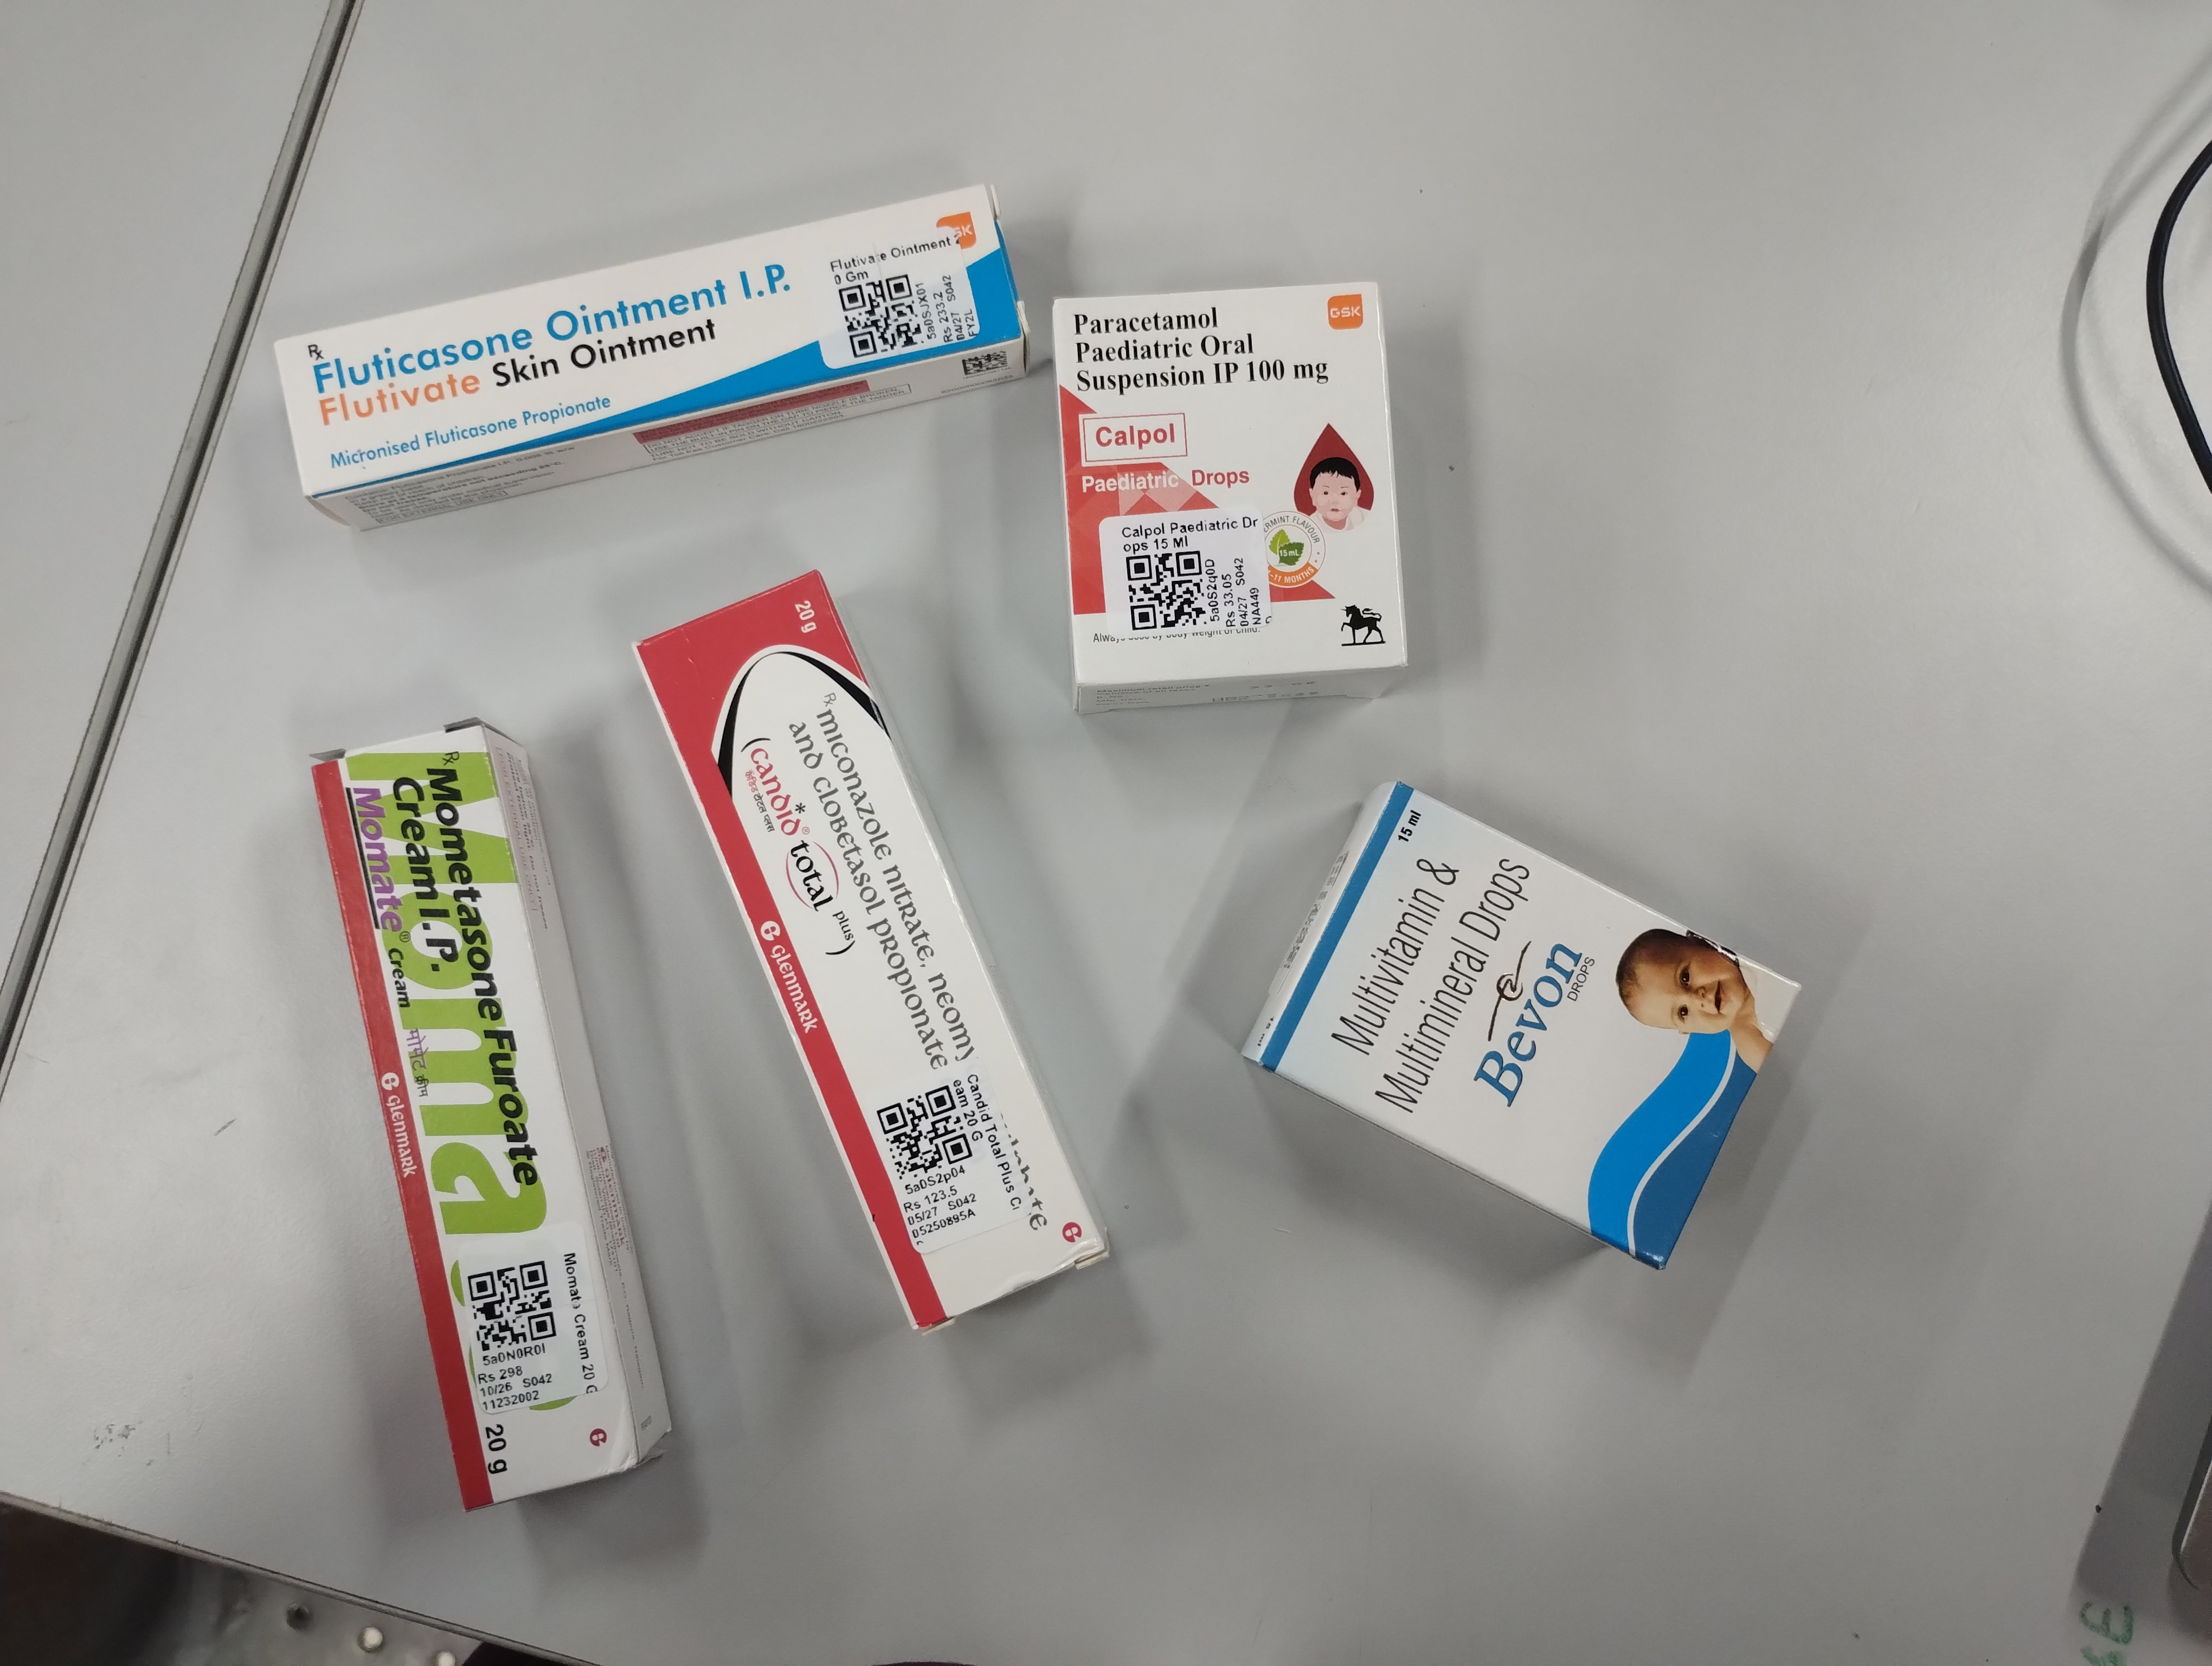QR: (467, 1215, 556, 1306)
